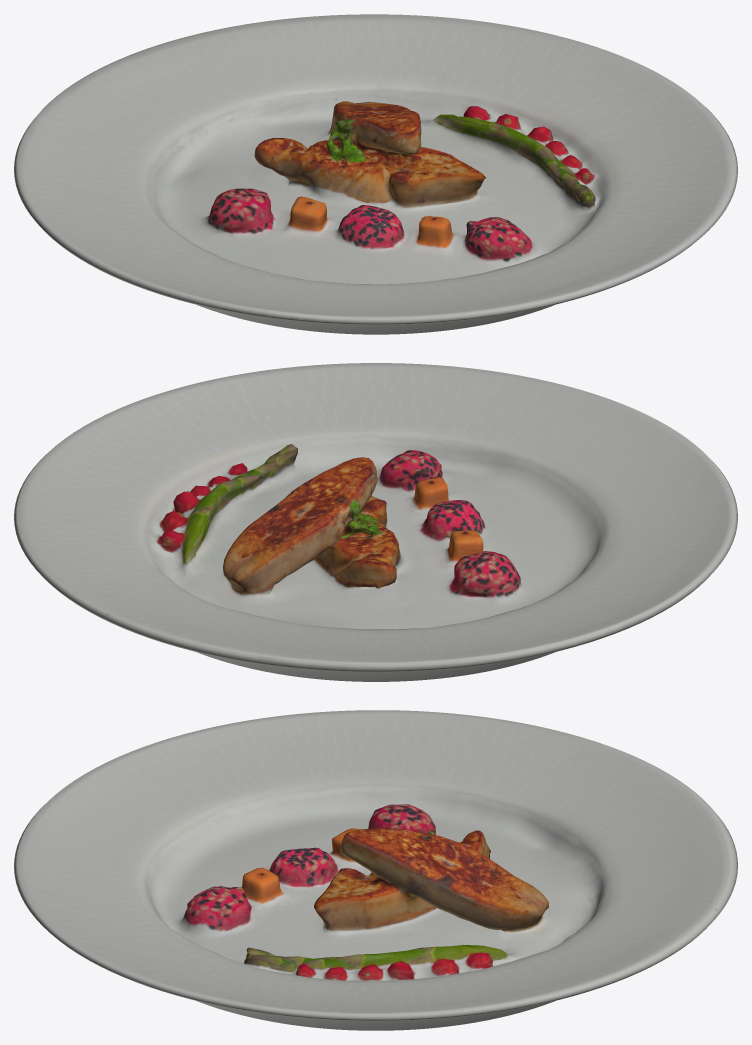
Rendered from 04_Gastro_canard.glb.
3 views of the same model, one above another, from view 1: azimuth 30°, elevation 25°; view 2: azimuth 150°, elevation 25°; view 3: azimuth 270°, elevation 25° (orthographic).
Parts seen in each view (by area): view 1: Final; view 2: Final; view 3: Final.
Boxes of the visible parts, <box> form: Final: <box>14,14,737,334</box>; Final: <box>14,363,737,681</box>; Final: <box>14,710,737,1030</box>.
Size of the model in its own units: 0.1978 by 0.0296 by 0.1978.
Materials: 1 (1 with a texture image).
